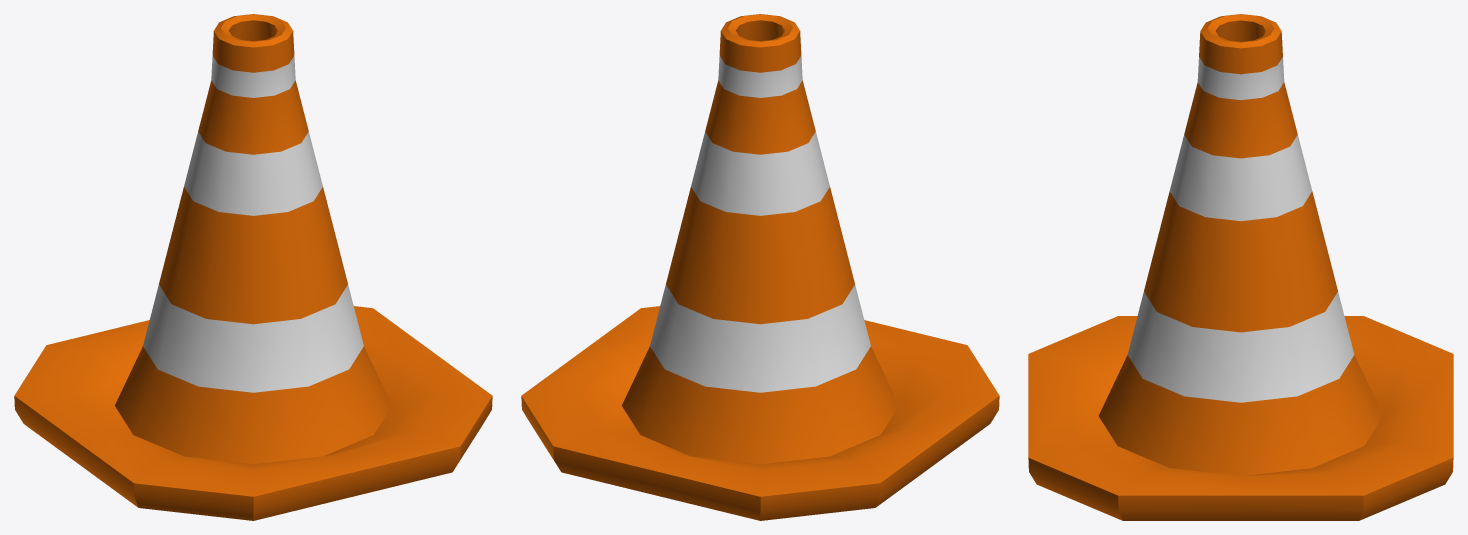
3 renders of one model, left to right at view 1: azimuth 30°, elevation 25°; view 2: azimuth 150°, elevation 25°; view 3: azimuth 270°, elevation 25°, orthographic. The views are drawn at different scales.
Visible parts, largest first — view 1: Cone; view 2: Cone; view 3: Cone.
Boxes of the visible parts, left/top/right/bottom form: Cone: left=14, top=14, right=492, bottom=520; Cone: left=521, top=14, right=999, bottom=520; Cone: left=1028, top=14, right=1453, bottom=520.
Size of the model in its own units: 172 by 181 by 172.
